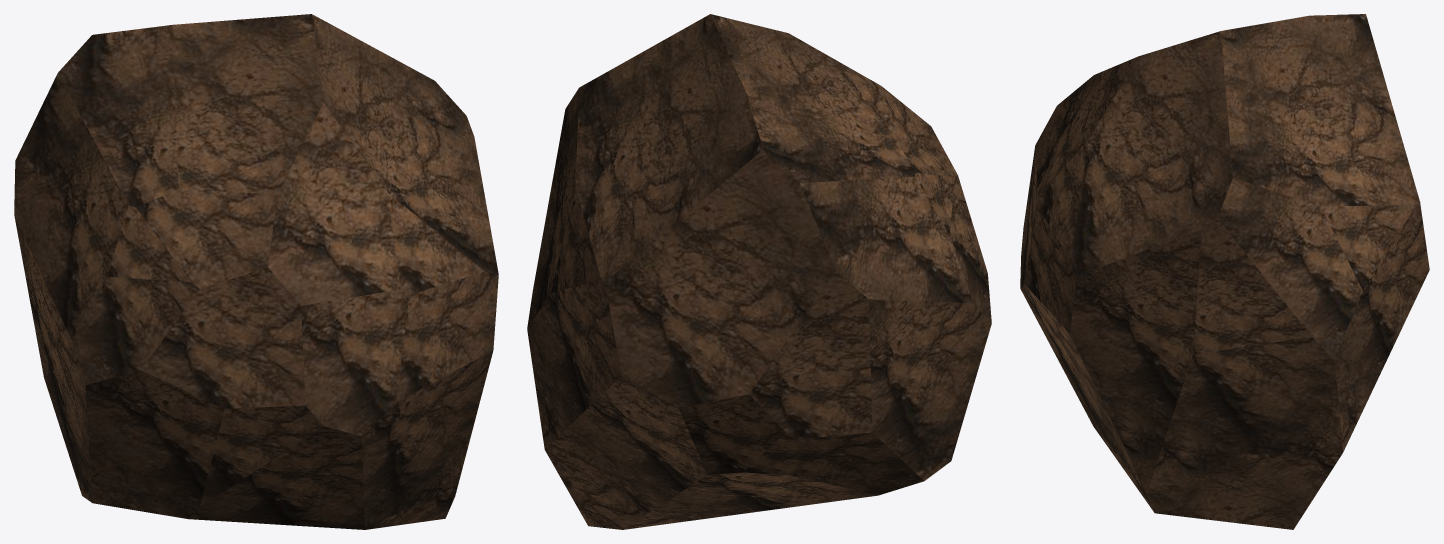
File: rocks_misc_02.obj
3 views of the same model, side by side, from view 1: azimuth 30°, elevation 25°; view 2: azimuth 150°, elevation 25°; view 3: azimuth 270°, elevation 25° (orthographic). The views are drawn at different scales.
Visible parts, largest first — view 1: mat0model0surf21, mat0model0surf26, mat0model0surf17, mat0model0surf9, mat0model0surf8, mat0model0surf1, mat0model0surf19, mat0model0surf13, mat0model0surf11, mat0model0surf4, mat0model0surf15, mat0model0surf18 (+5 smaller); view 2: mat0model0surf22, mat0model0surf28, mat0model0surf0, mat0model0surf20, mat0model0surf9, mat0model0surf10, mat0model0surf21, mat0model0surf27, mat0model0surf19, mat0model0surf7, mat0model0surf16, mat0model0surf3 (+6 smaller); view 3: mat0model0surf28, mat0model0surf23, mat0model0surf26, mat0model0surf24, mat0model0surf31, mat0model0surf27, mat0model0surf29, mat0model0surf17, mat0model0surf30, mat0model0surf13, mat0model0surf18, mat0model0surf25 (+1 smaller).
Part boxes in pixels (x1,y1,x2,y2): mat0model0surf21: [172, 14, 323, 194]; mat0model0surf26: [312, 14, 498, 274]; mat0model0surf17: [268, 103, 400, 305]; mat0model0surf9: [14, 73, 128, 339]; mat0model0surf8: [141, 267, 305, 408]; mat0model0surf1: [85, 370, 224, 518]; mat0model0surf19: [58, 25, 178, 207]; mat0model0surf13: [362, 350, 493, 529]; mat0model0surf11: [301, 289, 409, 436]; mat0model0surf4: [188, 426, 364, 529]; mat0model0surf15: [136, 189, 277, 288]; mat0model0surf18: [396, 271, 498, 402]; mat0model0surf22: [605, 150, 835, 407]; mat0model0surf28: [575, 14, 762, 281]; mat0model0surf0: [869, 299, 991, 480]; mat0model0surf20: [545, 376, 707, 529]; mat0model0surf9: [800, 177, 972, 303]; mat0model0surf10: [749, 271, 872, 438]; mat0model0surf21: [710, 14, 895, 139]; mat0model0surf27: [527, 280, 621, 449]; mat0model0surf19: [747, 95, 915, 183]; mat0model0surf7: [623, 472, 877, 529]; mat0model0surf16: [679, 394, 785, 474]; mat0model0surf3: [793, 432, 923, 495]; mat0model0surf28: [1221, 14, 1419, 206]; mat0model0surf23: [1146, 337, 1342, 529]; mat0model0surf26: [1071, 31, 1232, 275]; mat0model0surf24: [1070, 230, 1201, 493]; mat0model0surf31: [1218, 178, 1362, 359]; mat0model0surf27: [1334, 202, 1429, 452]; mat0model0surf29: [1193, 218, 1311, 354]; mat0model0surf17: [1035, 56, 1138, 196]; mat0model0surf30: [1320, 205, 1416, 289]; mat0model0surf13: [1020, 284, 1154, 512]; mat0model0surf18: [1024, 207, 1076, 333]; mat0model0surf25: [1037, 140, 1088, 258].
Bounding box in the file's own units: 174 × 212 × 170.
